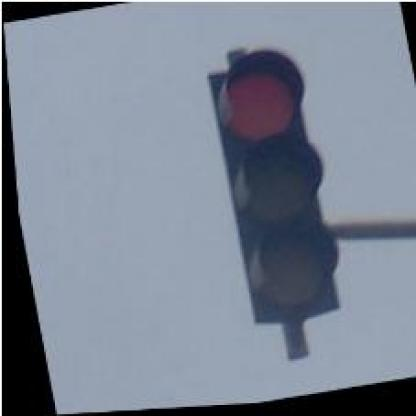red: (202, 46, 344, 328)
